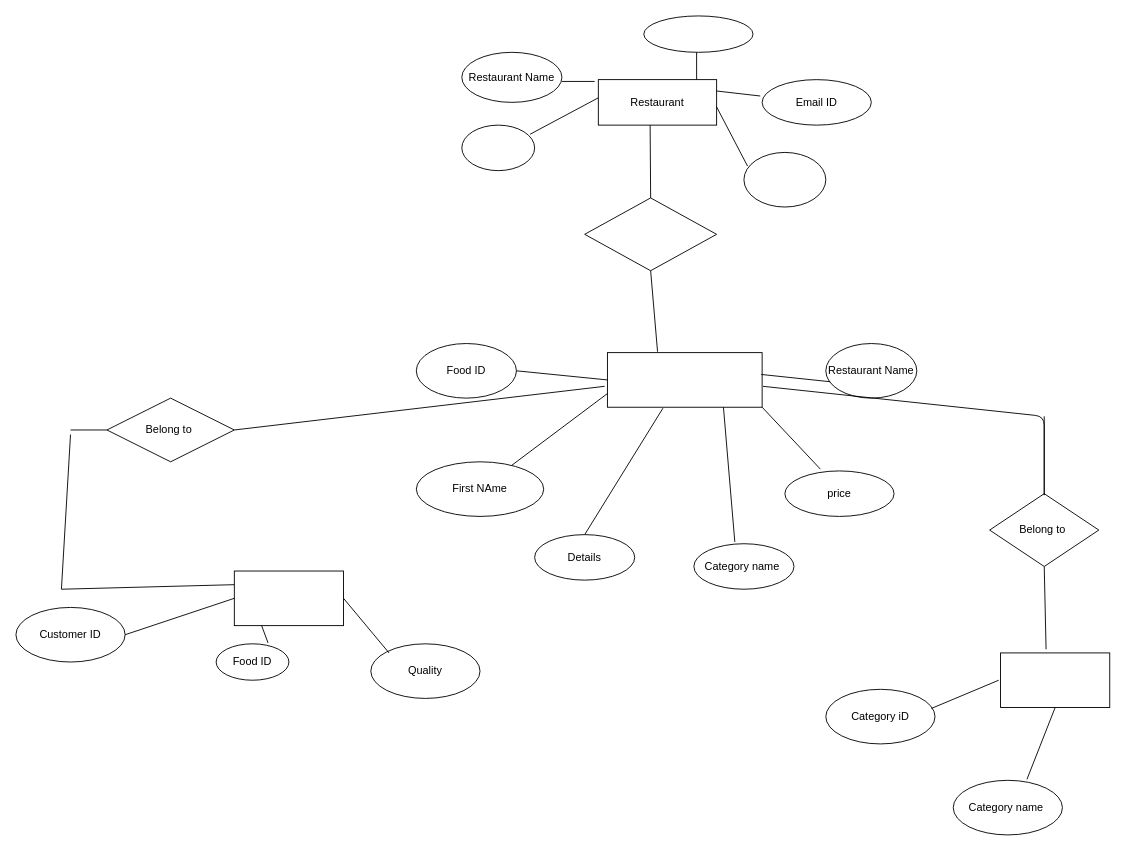
The diagram is 1126 pixels wide and 851 high, and some of its shapes have lost their labels. Here are the shapes that lost their labels. From the top down, the box of each, then its label:
(643, 15, 753, 52): CNO
(461, 124, 535, 171): Restaurant Detail
(743, 152, 826, 207): Restaurant menu
(584, 197, 717, 271): Register
(607, 352, 762, 407): Food
(233, 570, 344, 626): order
(1000, 652, 1110, 708): category
